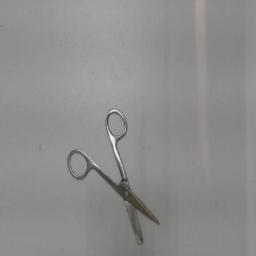Dressing Scissors: (64, 104, 164, 252)
